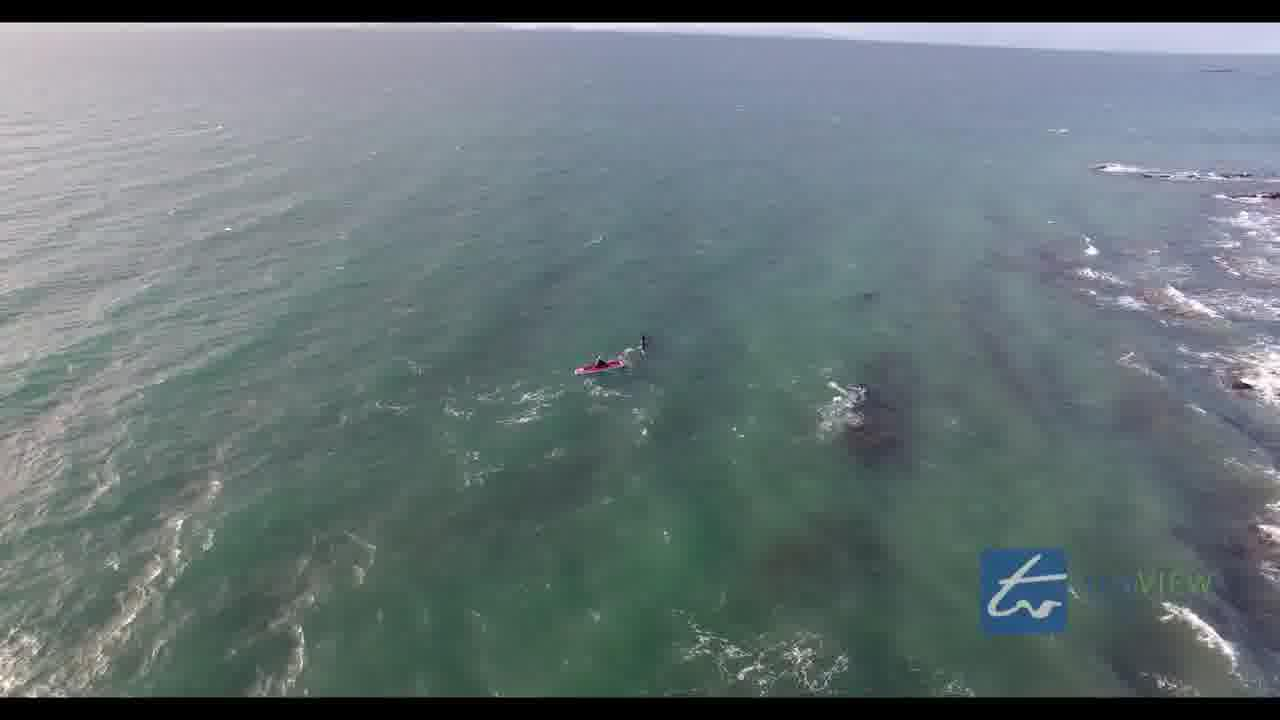human: (585, 350, 611, 377), (631, 326, 651, 354)
